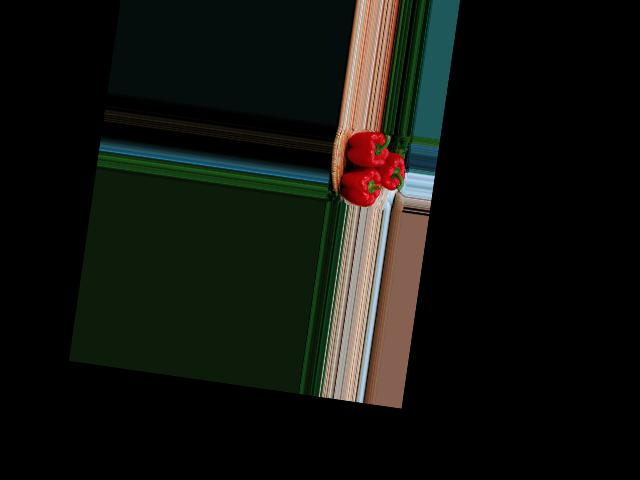bell_pepper: (338, 127, 391, 175)
